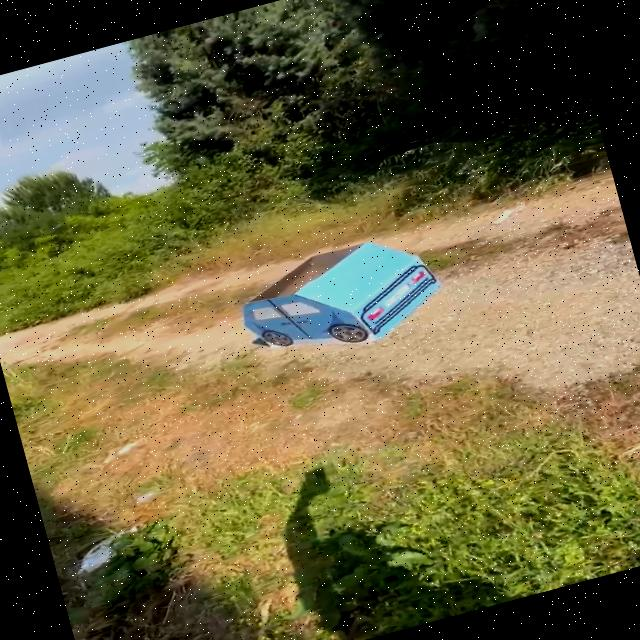blue_car: (207, 205, 469, 388)
